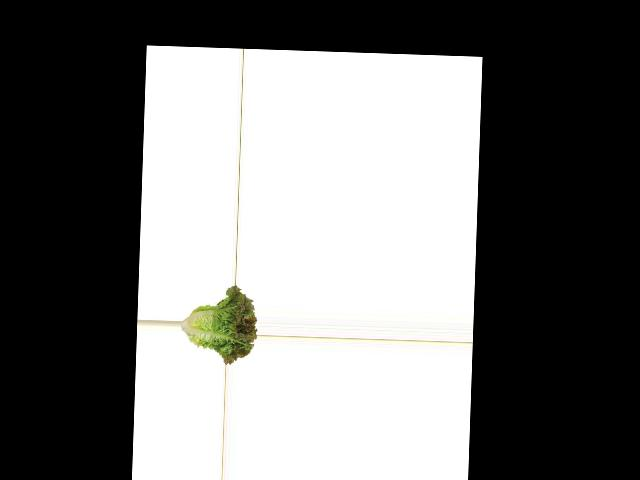lettuce: (179, 283, 257, 364)
